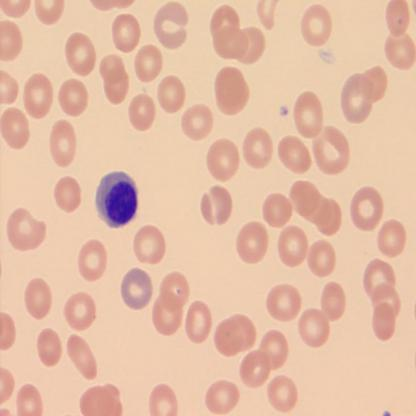NRC: (96, 172, 140, 229)
